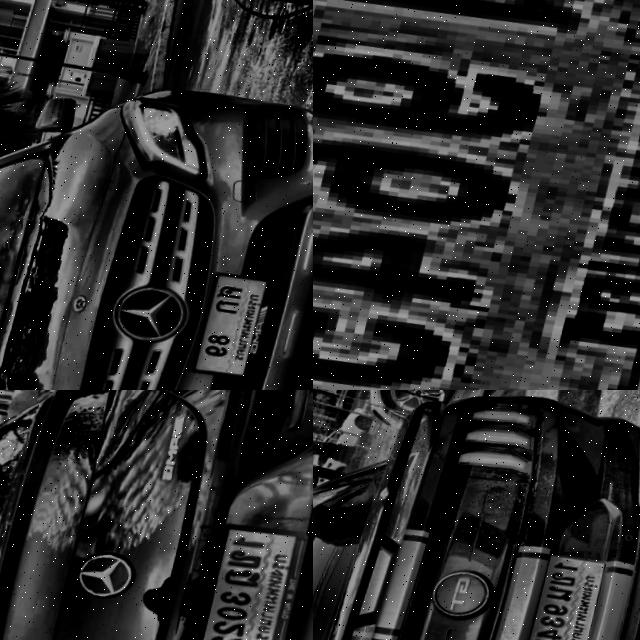license-plate: (313, 0, 640, 390), (192, 525, 313, 640), (193, 273, 282, 384), (527, 554, 615, 640)
